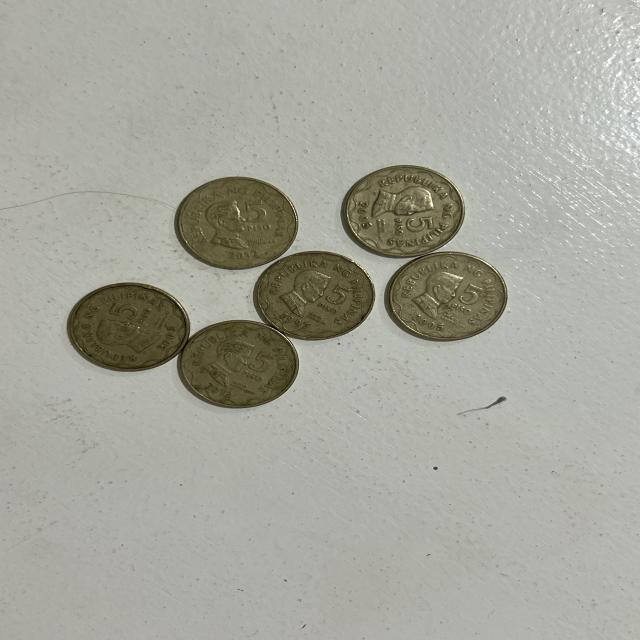5_Old_Front: (103, 297, 162, 325), (240, 341, 278, 383), (450, 278, 484, 324), (384, 213, 438, 240), (240, 198, 274, 238), (316, 281, 351, 316)
